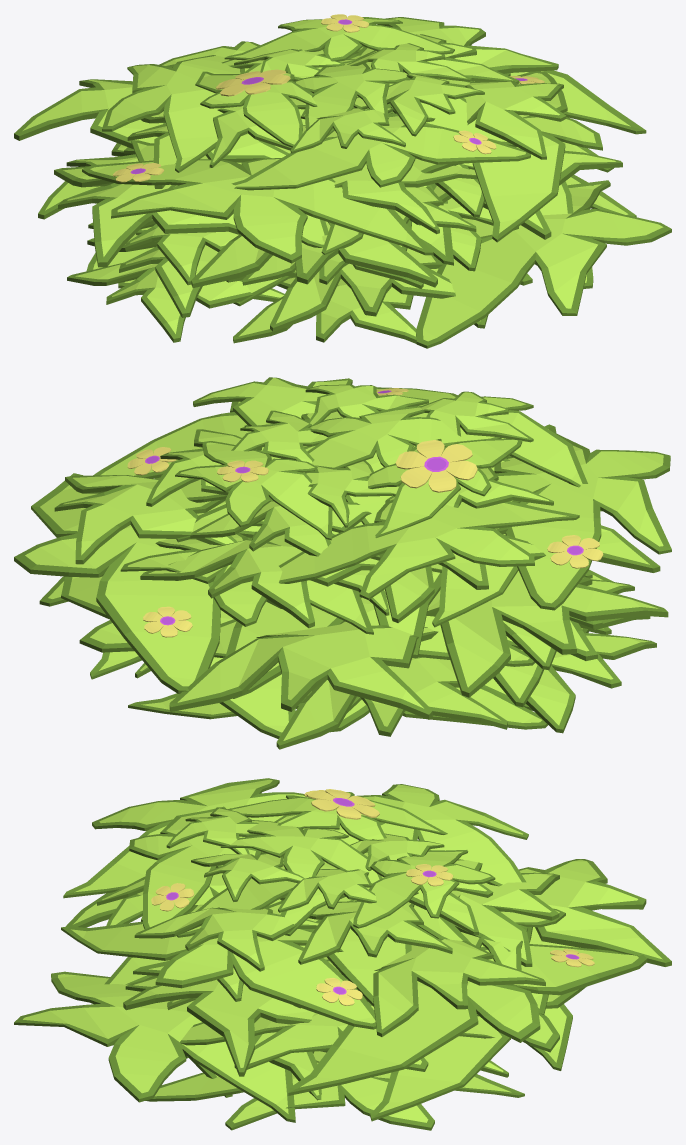
The model's file is sneaky_bush.glb.
3 renders of one model, top to bottom at view 1: azimuth 30°, elevation 25°; view 2: azimuth 150°, elevation 25°; view 3: azimuth 270°, elevation 25°, orthographic. The views are drawn at different scales.
Visible parts, largest first — view 1: SneakyBush-col; view 2: SneakyBush-col; view 3: SneakyBush-col.
Boxes of the visible parts, x1,y1,x2,y2 form: SneakyBush-col: [14, 14, 671, 348]; SneakyBush-col: [14, 377, 671, 749]; SneakyBush-col: [14, 778, 671, 1130].
Bounding box in the file's own units: 1.1 × 0.3721 × 1.16.
1 material, 1 textured.
